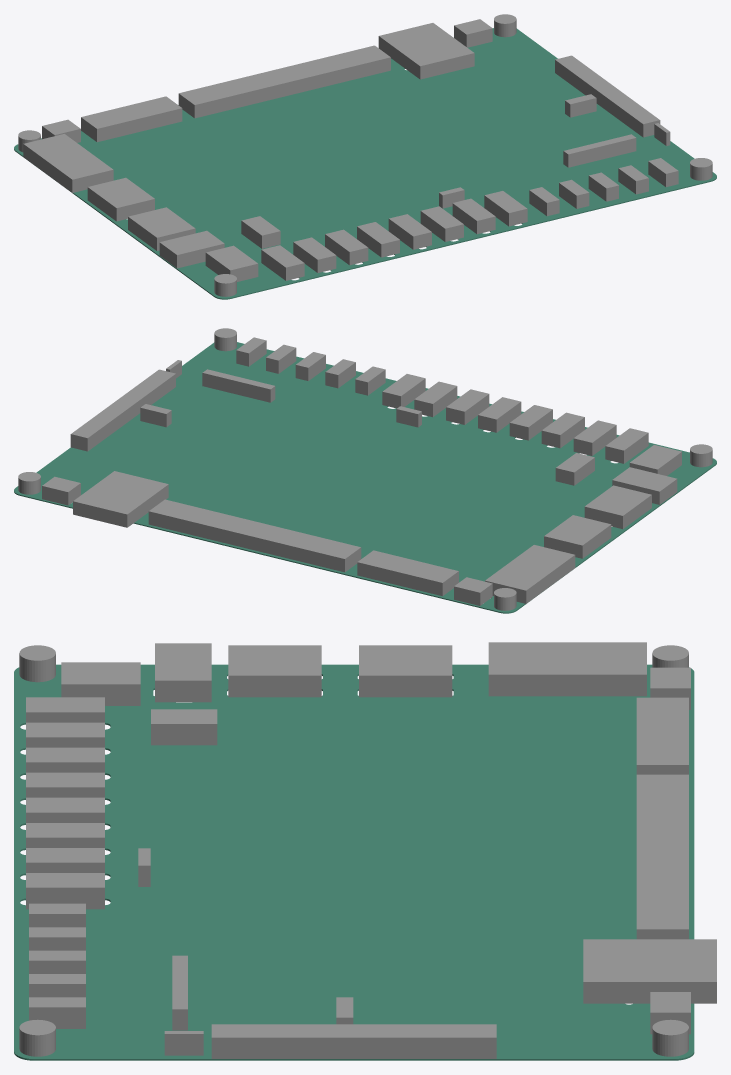
File: acx720_v2_reference.glb
3 views of the same model, one above another, from view 1: azimuth 30°, elevation 25°; view 2: azimuth 150°, elevation 25°; view 3: azimuth 270°, elevation 25° (orthographic). The views are drawn at different scales.
Parts seen in each view (by area): view 1: V2_board_source_stack_thickness_NOT_VERIFIED, V2_P3_IDC-40J_SOURCE_ENVELOPE, V2_J3_RJ45_HR911130C_SOURCE_ENVELOPE, V2_P4_HD20-100-R_SOURCE_ENVELOPE, V2_P5_HDR2X18_SOURCE_ENVELOPE, V2_P1_IDC3-14_SOURCE_ENVELOPE, V2_J7_HDMI_A_SOURCE_ENVELOPE, V2_J6_HDMI_A_SOURCE_ENVELOPE, V2_J4_JACK_PWR_SOURCE_ENVELOPE, V2_BT1_CR1220_SOURCE_ENVELOPE, V2_S5_SS12D06_1P2T__SOURCE_ENVELOPE, V2_SW7_SW-1X2_SOURCE_ENVELOPE (+19 smaller); view 2: V2_board_source_stack_thickness_NOT_VERIFIED, V2_P3_IDC-40J_SOURCE_ENVELOPE, V2_J3_RJ45_HR911130C_SOURCE_ENVELOPE, V2_P4_HD20-100-R_SOURCE_ENVELOPE, V2_P5_HDR2X18_SOURCE_ENVELOPE, V2_P1_IDC3-14_SOURCE_ENVELOPE, V2_J6_HDMI_A_SOURCE_ENVELOPE, V2_J7_HDMI_A_SOURCE_ENVELOPE, V2_J4_JACK_PWR_SOURCE_ENVELOPE, V2_BT1_CR1220_SOURCE_ENVELOPE, V2_S5_SS12D06_1P2T__SOURCE_ENVELOPE, V2_SW7_SW-1X2_SOURCE_ENVELOPE (+20 smaller); view 3: V2_board_source_stack_thickness_NOT_VERIFIED, V2_P5_HDR2X18_SOURCE_ENVELOPE, V2_P3_IDC-40J_SOURCE_ENVELOPE, V2_P4_HD20-100-R_SOURCE_ENVELOPE, V2_J3_RJ45_HR911130C_SOURCE_ENVELOPE, V2_J6_HDMI_A_SOURCE_ENVELOPE, V2_J7_HDMI_A_SOURCE_ENVELOPE, V2_P1_IDC3-14_SOURCE_ENVELOPE, V2_J4_JACK_PWR_SOURCE_ENVELOPE, V2_S5_SS12D06_1P2T__SOURCE_ENVELOPE, V2_SW0_SW-1X2_SOURCE_ENVELOPE, V2_P6_HDR2X4_SOURCE_ENVELOPE (+20 smaller).
Part boxes in pixels (<box>): V2_board_source_stack_thickness_NOT_VERIFIED: <box>14,28,716,299</box>; V2_P3_IDC-40J_SOURCE_ENVELOPE: <box>178,45,390,118</box>; V2_J3_RJ45_HR911130C_SOURCE_ENVELOPE: <box>378,23,474,79</box>; V2_P4_HD20-100-R_SOURCE_ENVELOPE: <box>23,134,113,192</box>; V2_P5_HDR2X18_SOURCE_ENVELOPE: <box>555,55,660,137</box>; V2_P1_IDC3-14_SOURCE_ENVELOPE: <box>81,96,182,142</box>; V2_J7_HDMI_A_SOURCE_ENVELOPE: <box>87,177,154,221</box>; V2_J6_HDMI_A_SOURCE_ENVELOPE: <box>128,207,195,250</box>; V2_J4_JACK_PWR_SOURCE_ENVELOPE: <box>159,230,224,268</box>; V2_BT1_CR1220_SOURCE_ENVELOPE: <box>563,134,636,167</box>; V2_S5_SS12D06_1P2T__SOURCE_ENVELOPE: <box>205,245,258,281</box>; V2_SW7_SW-1X2_SOURCE_ENVELOPE: <box>261,245,304,280</box>; V2_board_source_stack_thickness_NOT_VERIFIED: <box>14,342,716,613</box>; V2_P3_IDC-40J_SOURCE_ENVELOPE: <box>148,499,361,572</box>; V2_J3_RJ45_HR911130C_SOURCE_ENVELOPE: <box>73,471,168,527</box>; V2_P4_HD20-100-R_SOURCE_ENVELOPE: <box>485,545,575,603</box>; V2_P5_HDR2X18_SOURCE_ENVELOPE: <box>70,369,175,451</box>; V2_P1_IDC3-14_SOURCE_ENVELOPE: <box>357,550,458,596</box>; V2_J6_HDMI_A_SOURCE_ENVELOPE: <box>584,485,651,529</box>; V2_J7_HDMI_A_SOURCE_ENVELOPE: <box>544,515,611,558</box>; V2_J4_JACK_PWR_SOURCE_ENVELOPE: <box>612,467,677,504</box>; V2_BT1_CR1220_SOURCE_ENVELOPE: <box>202,369,275,402</box>; V2_S5_SS12D06_1P2T__SOURCE_ENVELOPE: <box>629,445,681,475</box>; V2_SW7_SW-1X2_SOURCE_ENVELOPE: <box>605,428,648,463</box>; V2_board_source_stack_thickness_NOT_VERIFIED: <box>14,664,694,1060</box>; V2_P5_HDR2X18_SOURCE_ENVELOPE: <box>211,1024,496,1058</box>; V2_P3_IDC-40J_SOURCE_ENVELOPE: <box>636,774,688,939</box>; V2_P4_HD20-100-R_SOURCE_ENVELOPE: <box>488,642,646,696</box>; V2_J3_RJ45_HR911130C_SOURCE_ENVELOPE: <box>583,939,716,1003</box>; V2_J6_HDMI_A_SOURCE_ENVELOPE: <box>228,645,321,697</box>; V2_J7_HDMI_A_SOURCE_ENVELOPE: <box>359,645,452,697</box>; V2_P1_IDC3-14_SOURCE_ENVELOPE: <box>636,697,688,774</box>; V2_J4_JACK_PWR_SOURCE_ENVELOPE: <box>155,643,211,702</box>; V2_S5_SS12D06_1P2T__SOURCE_ENVELOPE: <box>61,662,140,705</box>; V2_SW0_SW-1X2_SOURCE_ENVELOPE: <box>26,873,104,909</box>; V2_P6_HDR2X4_SOURCE_ENVELOPE: <box>151,709,217,745</box>.
Bounding box in the file's own units: 0.1501 × 0.00409 × 0.1128.
